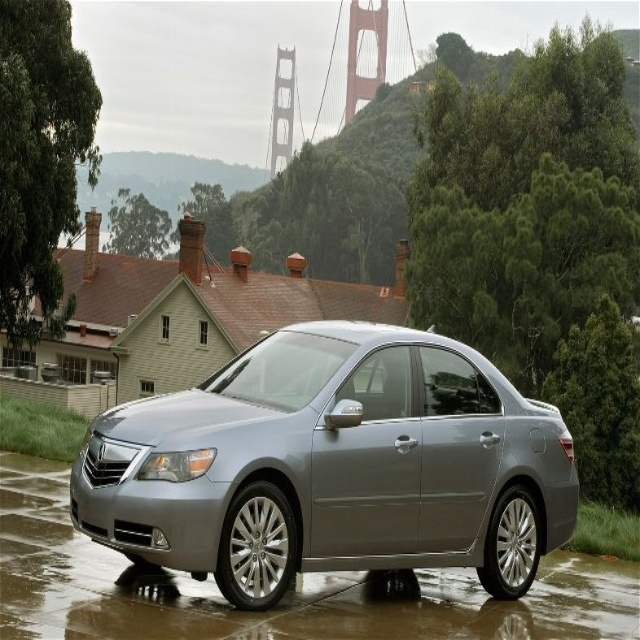Car: (70, 321, 579, 614)
